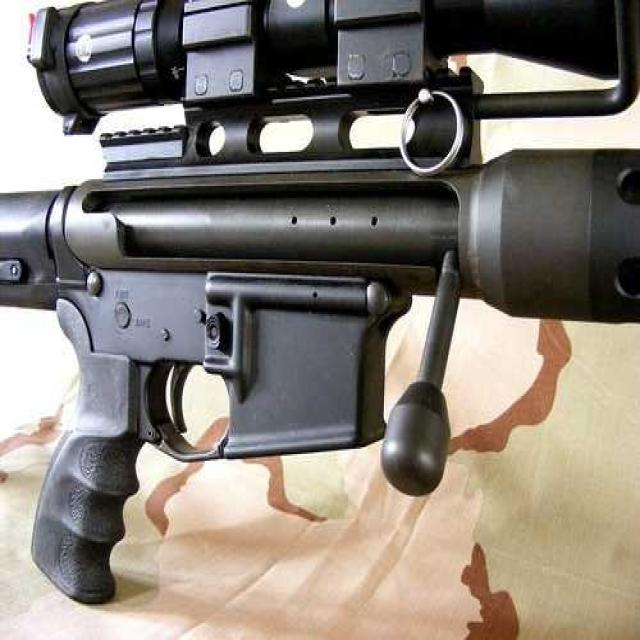heavyweapon: (1, 1, 635, 640)
